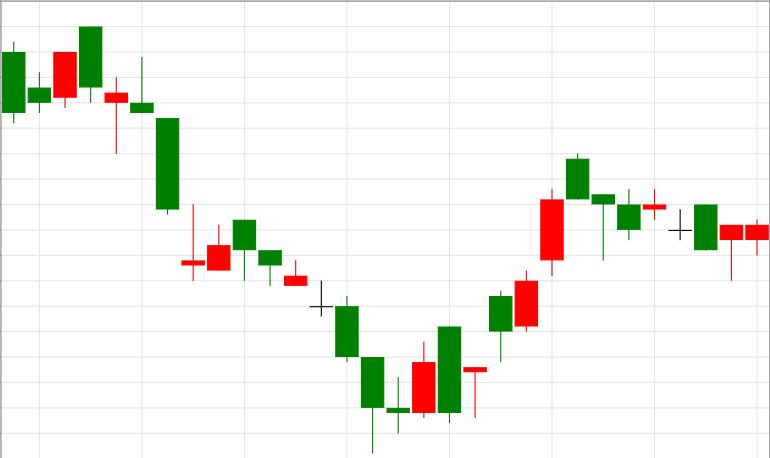morning_star_rise: (233, 219, 435, 453)
